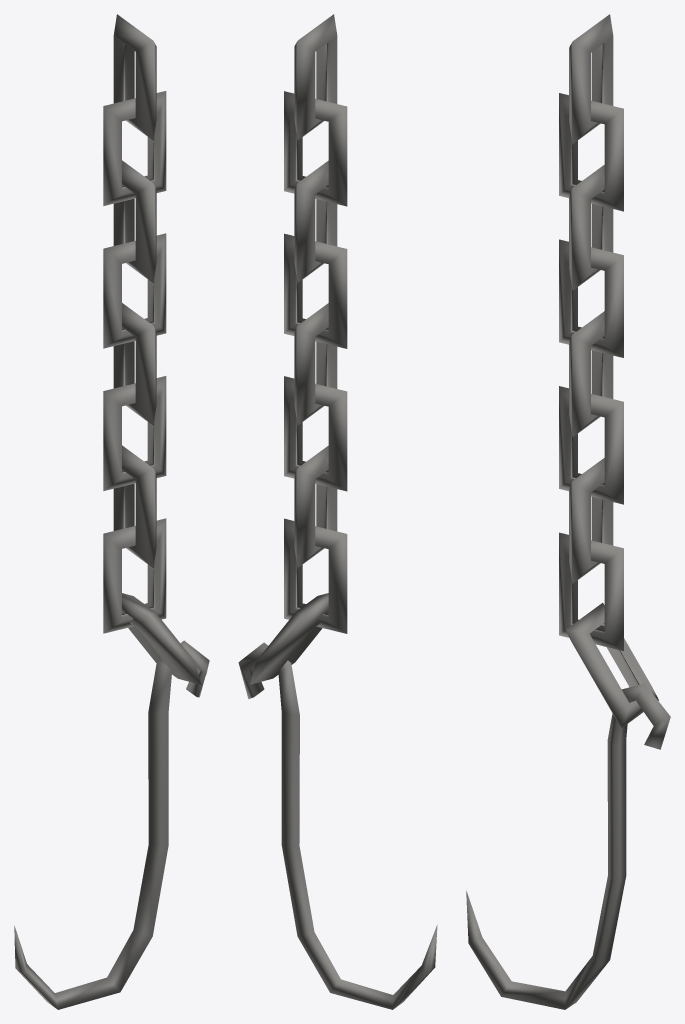
The model's file is rpgpp_ag_hook_01.fbx.
3 views of the same model, side by side, from view 1: azimuth 30°, elevation 25°; view 2: azimuth 150°, elevation 25°; view 3: azimuth 330°, elevation 25° (orthographic). The views are drawn at different scales.
Visible parts, largest first — view 1: rpgpp_ag_hook_01; view 2: rpgpp_ag_hook_01; view 3: rpgpp_ag_hook_01.
Boxes of the visible parts, box(x1,y1,x2,y2) form: rpgpp_ag_hook_01: box(14, 14, 209, 1009); rpgpp_ag_hook_01: box(238, 14, 437, 1009); rpgpp_ag_hook_01: box(466, 14, 670, 1009).
Size of the model in its own units: 0.1738 by 0.8072 by 0.0556.
